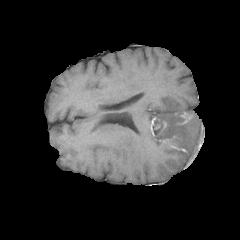glioma: (144, 109, 203, 168)
